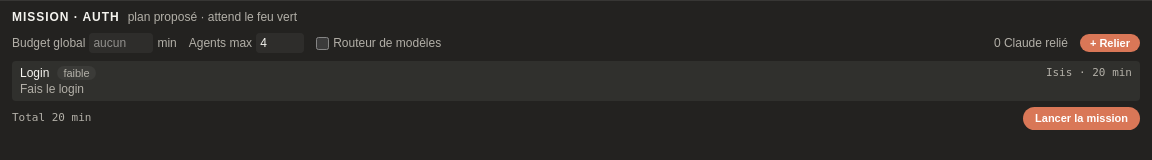
Test case: turns the model router on, and shows each sub-task's level and model (spec maj §3)
Expected: the text "Haiku 5.5" is not shown
Click the checkbox named "Routeur de modèles": (323, 43) [316,36,329,50]
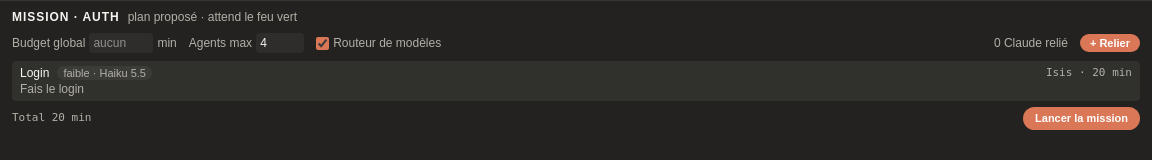
Expected: the text "faible · Haiku 5.5" is shown, [57,66,152,80]
